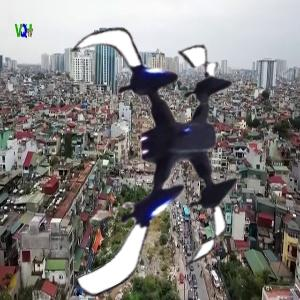drone: (23, 14, 285, 276)
